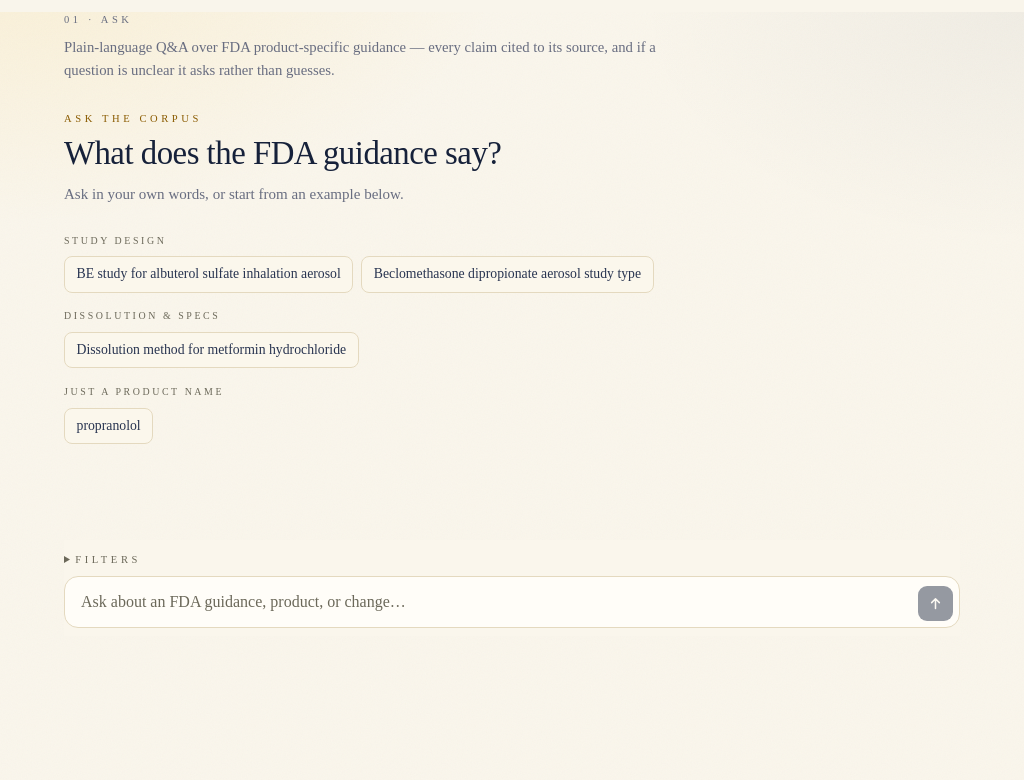
Test case: AskPage — run()/stop() orchestration › keeps auto-scrolling while the draft grows token-by-token (#32)
Type "a question" into the text box named "Ask the guidance corpus" at [496, 602], box left=81, top=584, right=910, bottom=621
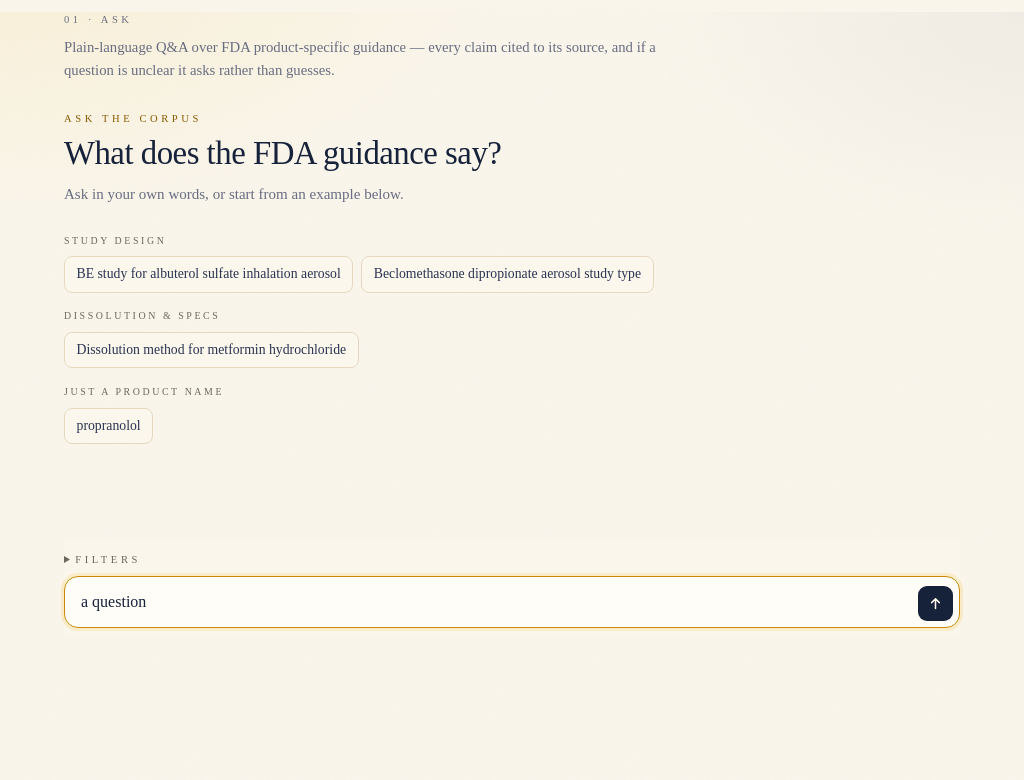
Press Enter
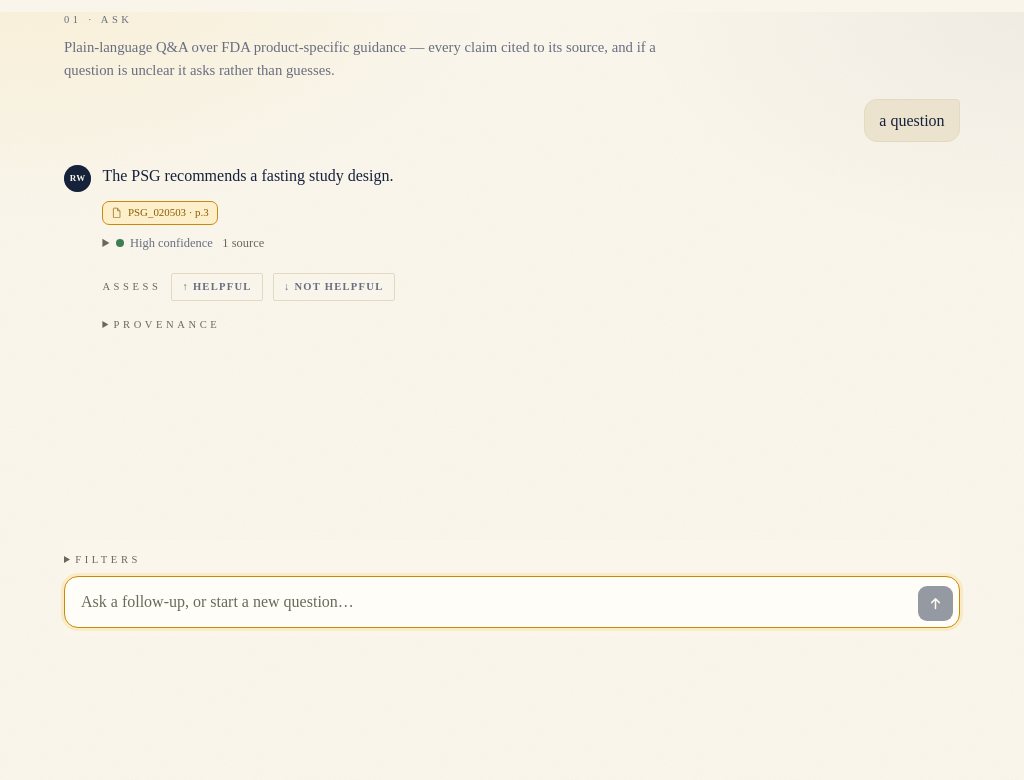
Check: the text "The PSG recommends a fasting study design." is shown, box left=102, top=167, right=394, bottom=184
